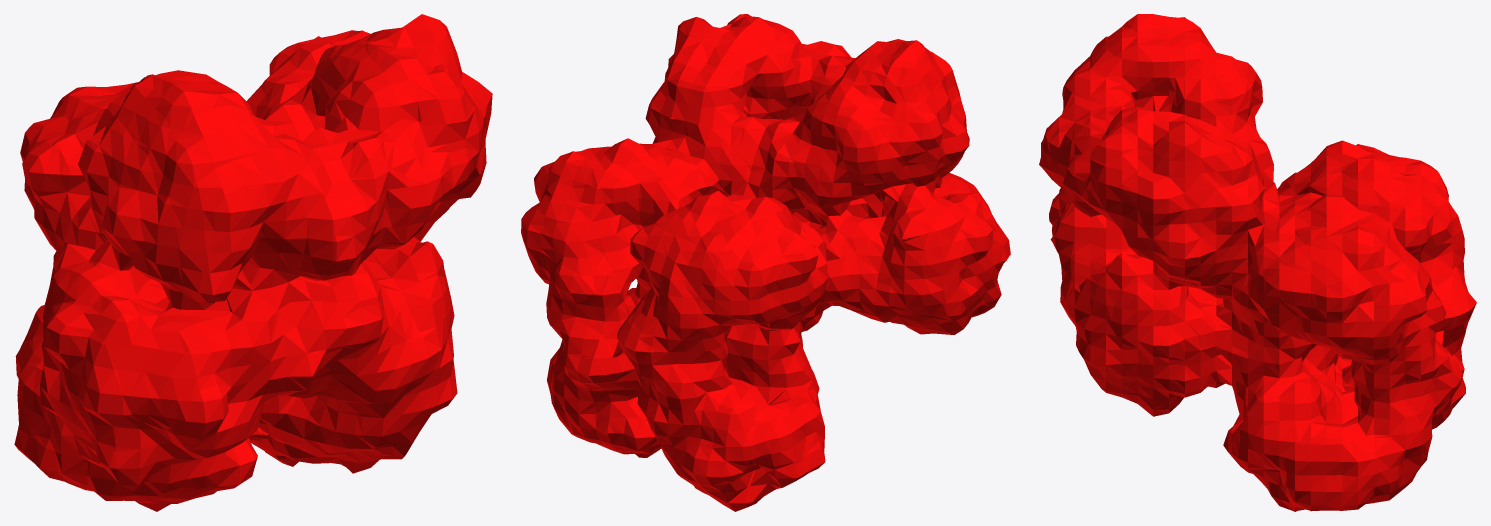
File: ycaO_coarse.dae
3 views of the same model, side by side, from view 1: azimuth 30°, elevation 25°; view 2: azimuth 150°, elevation 25°; view 3: azimuth 270°, elevation 25° (orthographic). The views are drawn at different scales.
Parts seen in each view (by area): view 1: ycaO; view 2: ycaO; view 3: ycaO.
Part boxes in pixels (x1,y1,x2,y2): ycaO: [14, 14, 492, 511]; ycaO: [521, 14, 1010, 511]; ycaO: [1039, 14, 1476, 511].
Size of the model in its own units: 152 by 156 by 150.
